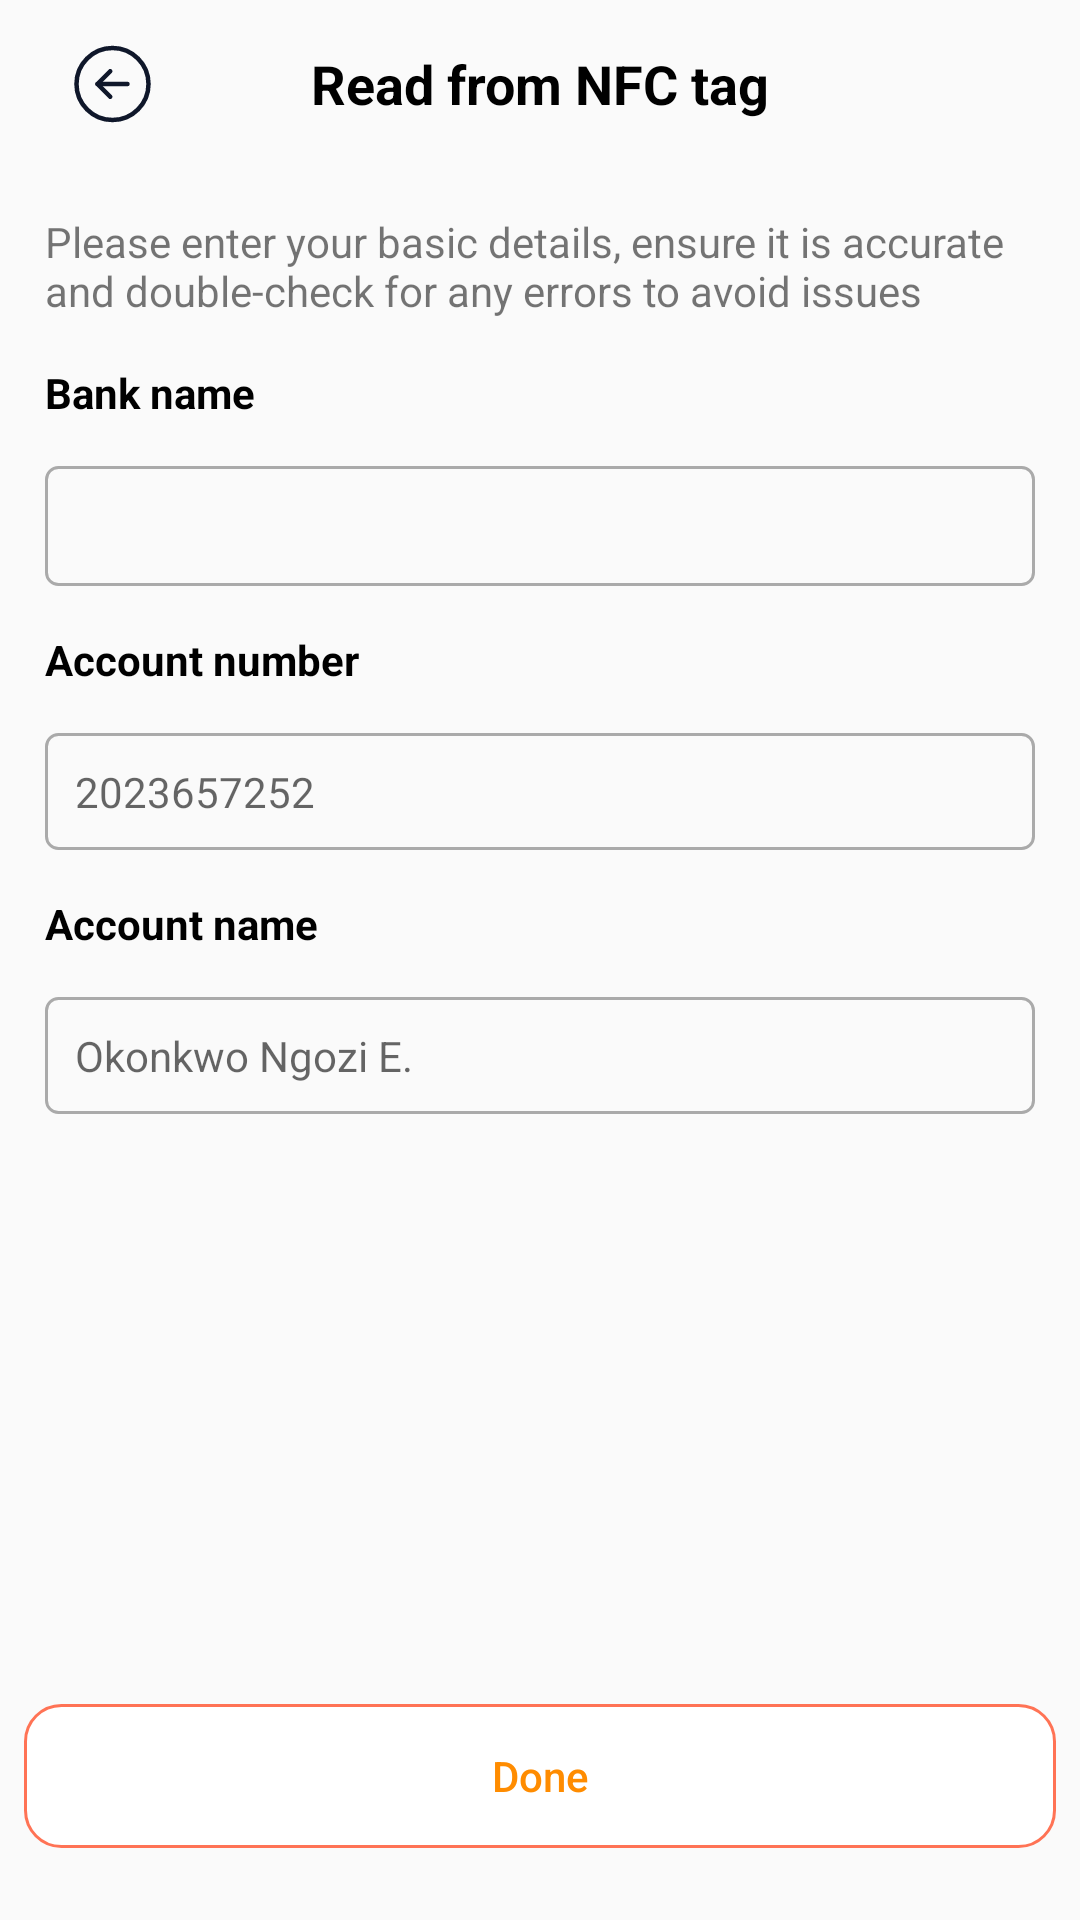

Icon click points for this 1080×1920 phone screenshot, format point (x, y):
back: point (112, 84)
